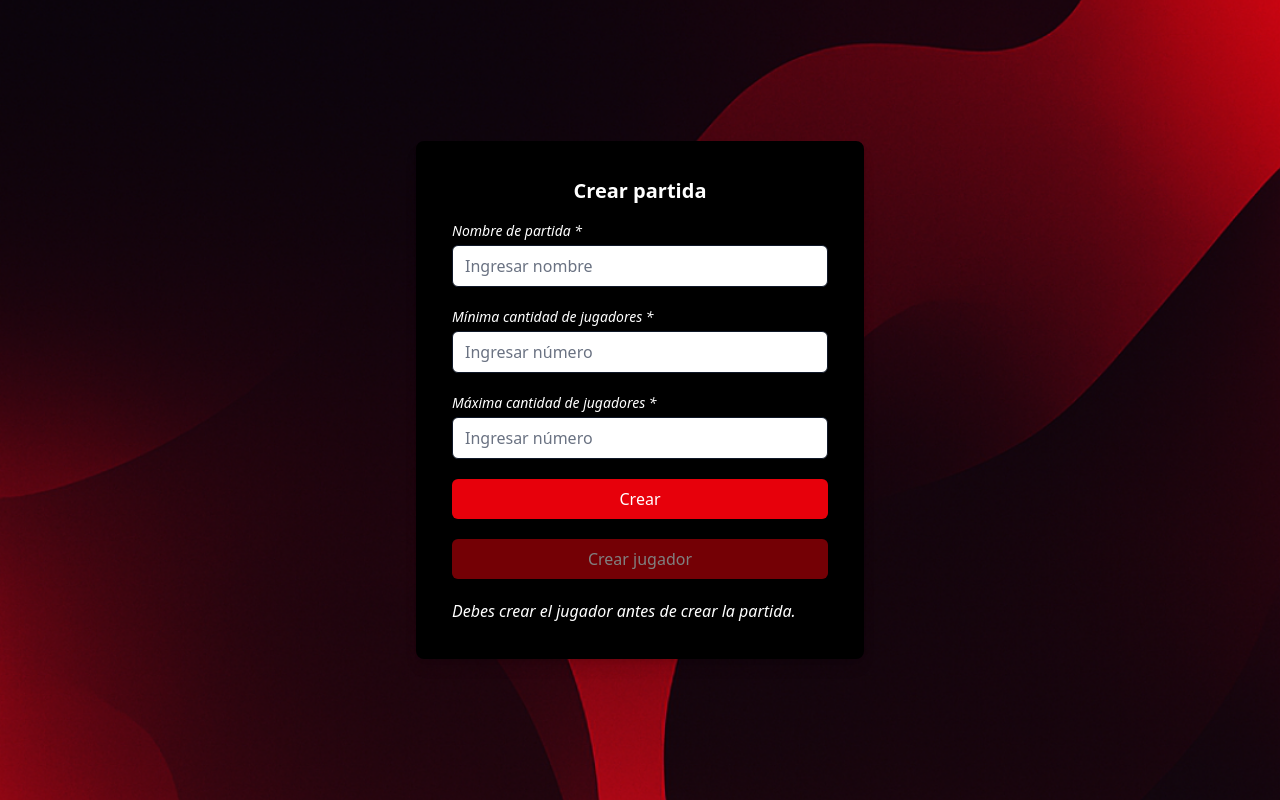
GameForm › Ingreso de datos › Se lanza error si no se ingresa un numero entre 2 y 6 en la entrada 'Mínima cantidad de jugadores'
The width and height of the screenshot is (1280, 800).
Type "9" into the field labelled "Mínima cantidad de jugadores *" at (640, 352), box [452,331,828,373]
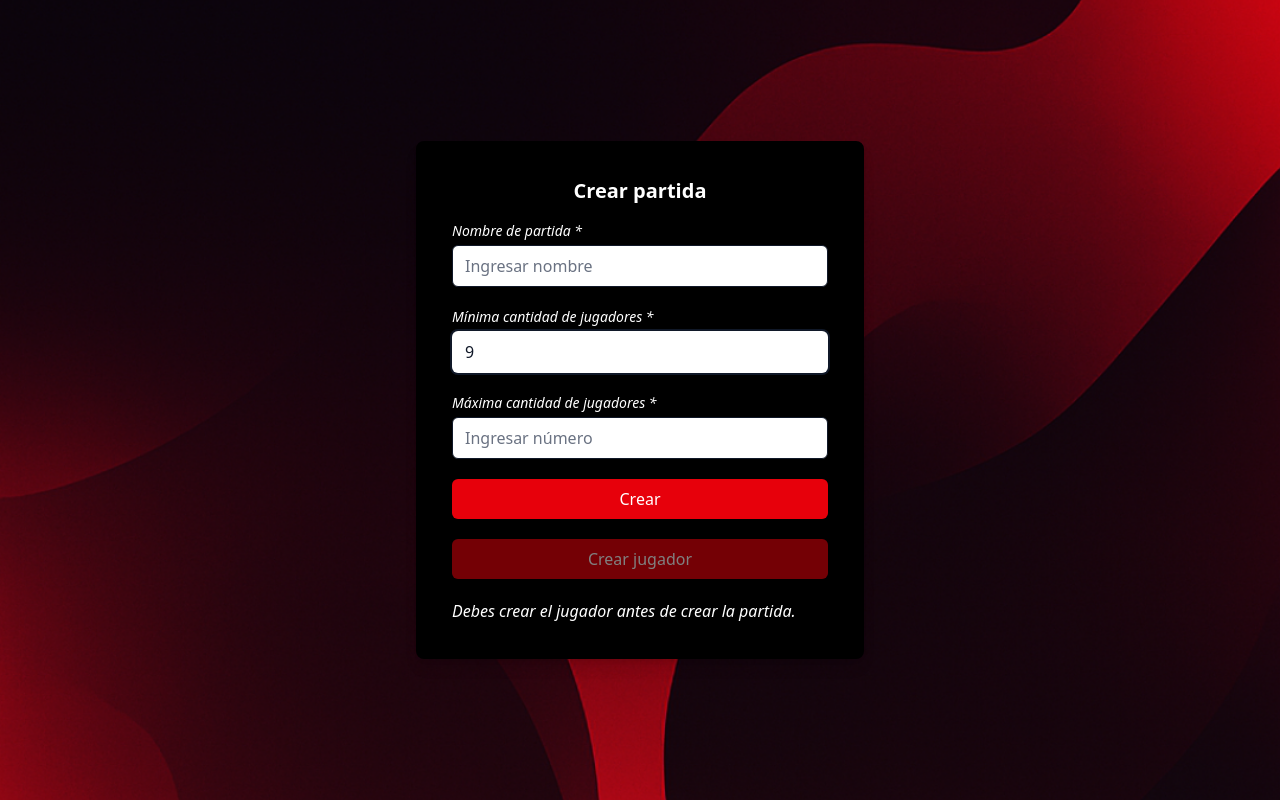
Click the button "Crear" at (640, 499), box [452,479,828,519]
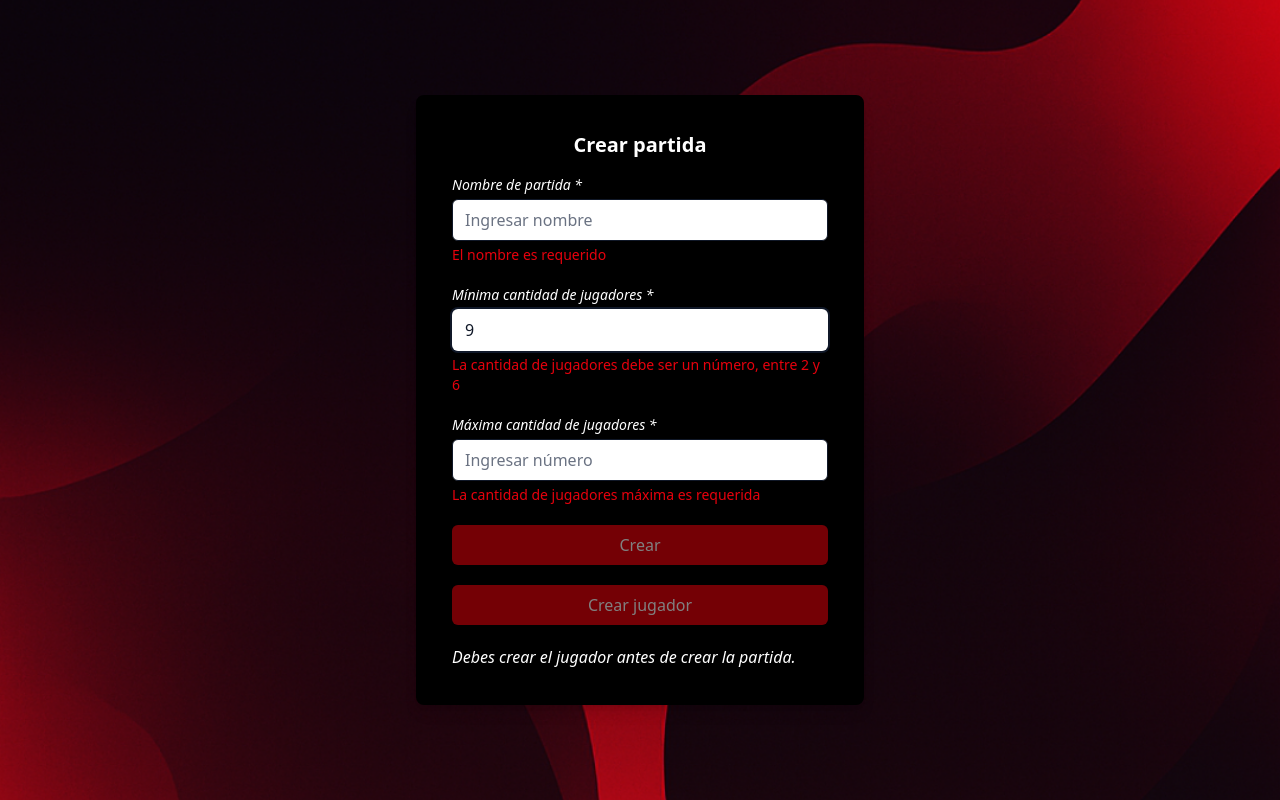
expect the text "La cantidad de jugadores debe ser un número, entre 2 y 6" is shown: met, box [452,355,828,395]
